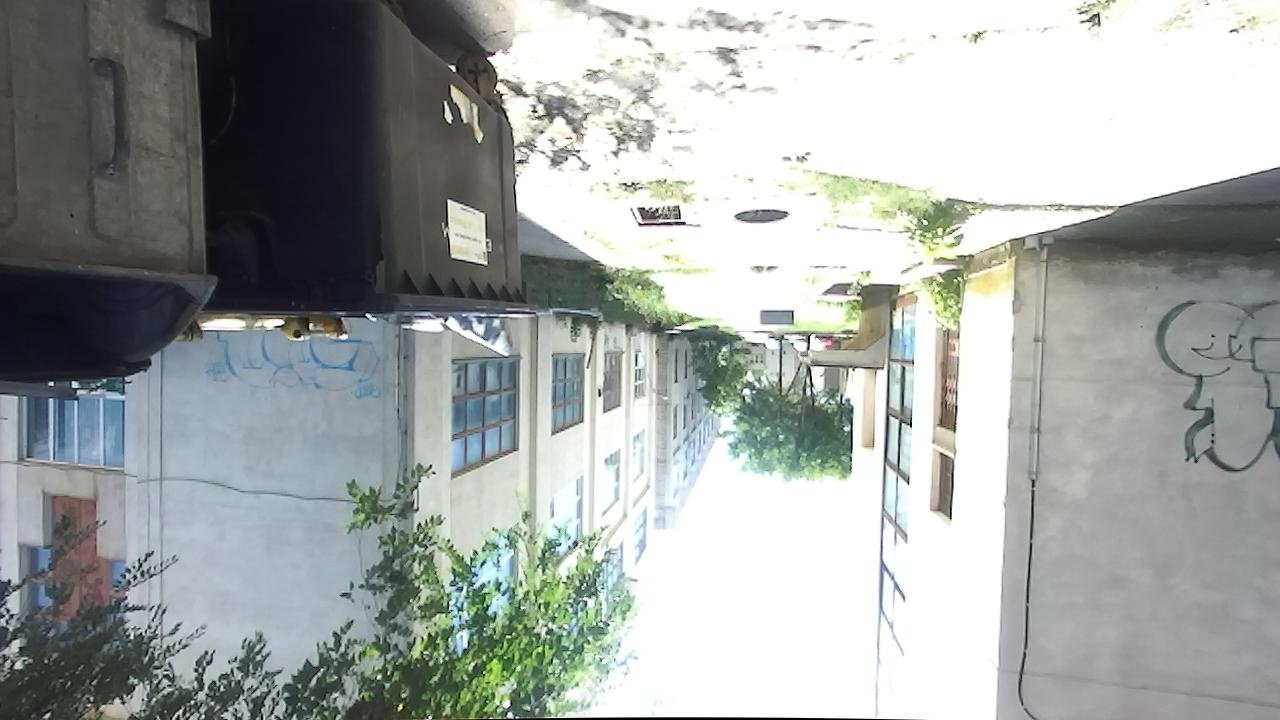drain: (628, 201, 689, 233), (728, 205, 791, 228)
